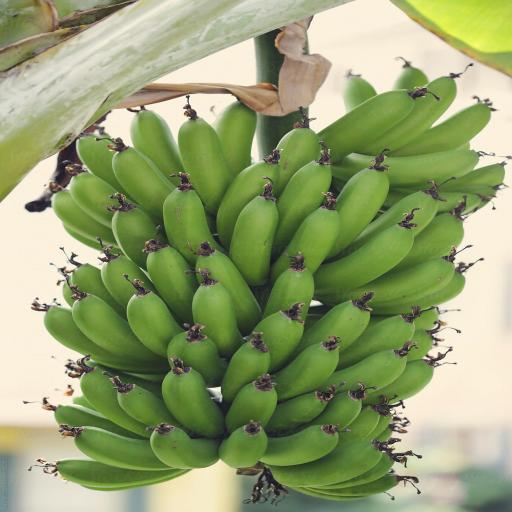banana-unripe: (32, 56, 512, 507), (66, 89, 474, 487)
